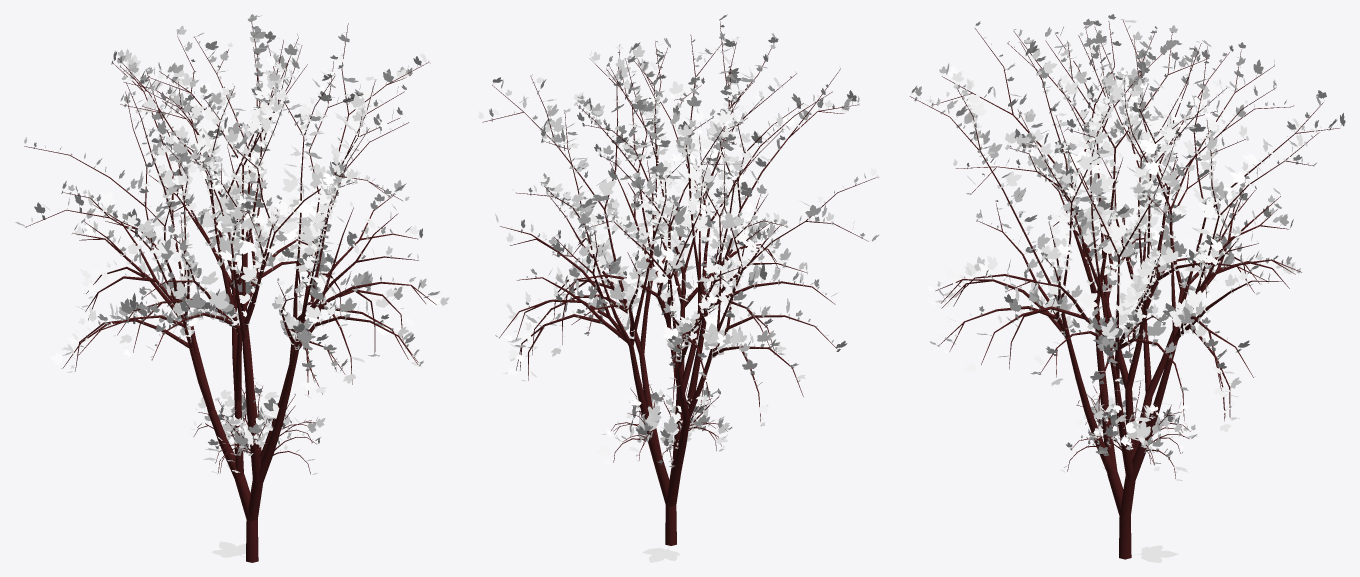
The model's file is arbol.glb.
3 views of the same model, side by side, from view 1: azimuth 30°, elevation 25°; view 2: azimuth 150°, elevation 25°; view 3: azimuth 270°, elevation 25° (orthographic). The views are drawn at different scales.
Parts seen in each view (by area): view 1: tree, leaves; view 2: tree, leaves; view 3: tree, leaves.
Part boxes in pixels (x1,y1,x2,y2): tree: (24,21,436,562); leaves: (24,17,430,468); tree: (482,21,876,545); leaves: (491,36,879,467); tree: (910,20,1339,559); leaves: (914,19,1331,464).
Bounding box in the file's own units: 5.63 × 6.77 × 5.14.
